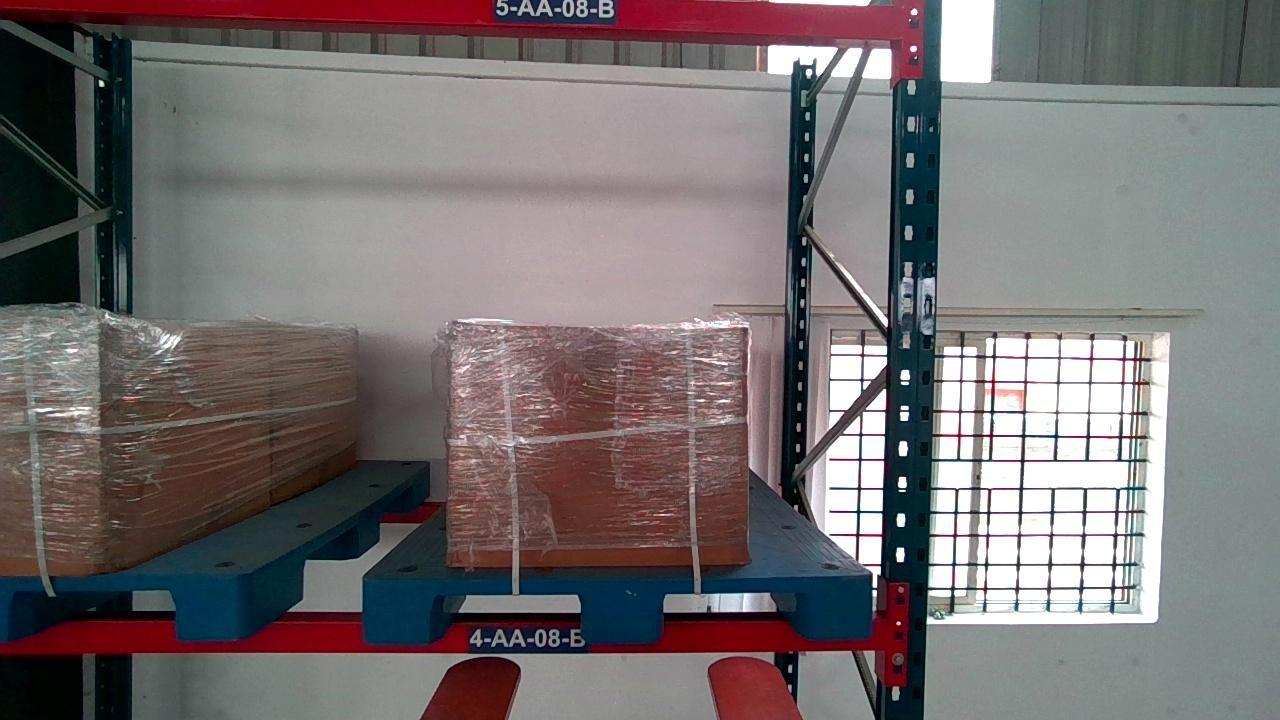h_rack: (0, 617, 905, 656)
small_pallet: (362, 575, 870, 639)
